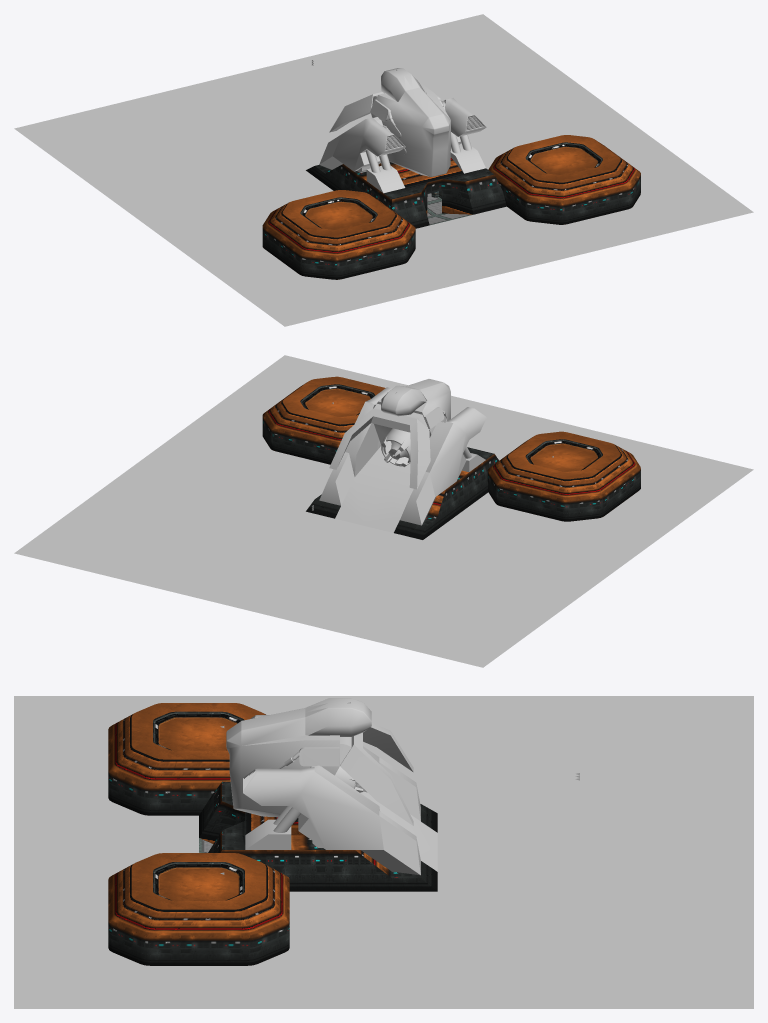
Rendered from ibrecy00.FBX.
3 views of the same model, one above another, from view 1: azimuth 30°, elevation 25°; view 2: azimuth 150°, elevation 25°; view 3: azimuth 270°, elevation 25° (orthographic). The views are drawn at different scales.
Parts seen in each view (by area): view 1: terrain, westwing, eastwing, mainbody, recy00, recy01, recy03, recy02, floor; view 2: terrain, westwing, eastwing, recy03, recy01, ramp, mainbody, recy00, projector; view 3: terrain, eastwing, westwing, mainbody, recy00, recy01, recy03, ramp.
Boxes of the visible parts, <box> form: terrain: <box>14,14,753,326</box>; westwing: <box>262,190,415,279</box>; eastwing: <box>488,135,640,224</box>; mainbody: <box>306,157,506,228</box>; recy00: <box>370,68,450,176</box>; recy01: <box>333,98,486,193</box>; recy03: <box>319,92,383,169</box>; recy02: <box>365,132,471,172</box>; floor: <box>427,193,472,225</box>; terrain: <box>14,355,753,667</box>; westwing: <box>487,431,640,521</box>; eastwing: <box>262,376,385,464</box>; recy03: <box>319,408,435,525</box>; recy01: <box>345,387,486,496</box>; ramp: <box>335,446,413,532</box>; mainbody: <box>306,447,499,539</box>; recy00: <box>373,379,450,445</box>; projector: <box>381,428,410,466</box>; terrain: <box>14,696,753,1008</box>; eastwing: <box>108,853,289,965</box>; westwing: <box>108,703,265,815</box>; mainbody: <box>199,781,437,891</box>; recy00: <box>226,698,371,817</box>; recy01: <box>243,715,383,849</box>; recy03: <box>340,723,420,875</box>; ramp: <box>360,791,437,871</box>.
Bounding box in the file's own units: 64 × 15.34 × 64.
